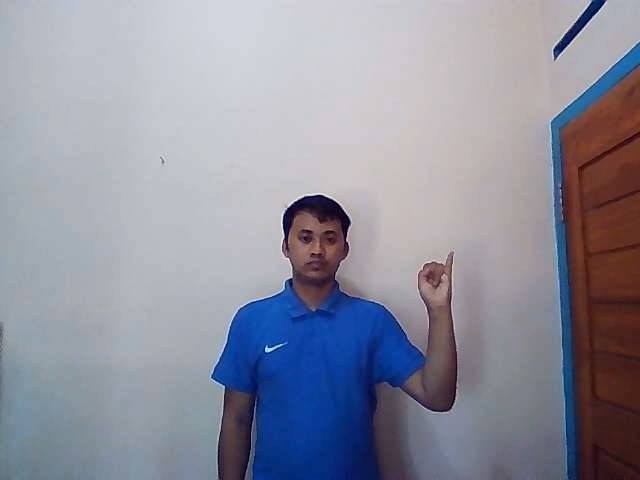I: (415, 250, 456, 303)
